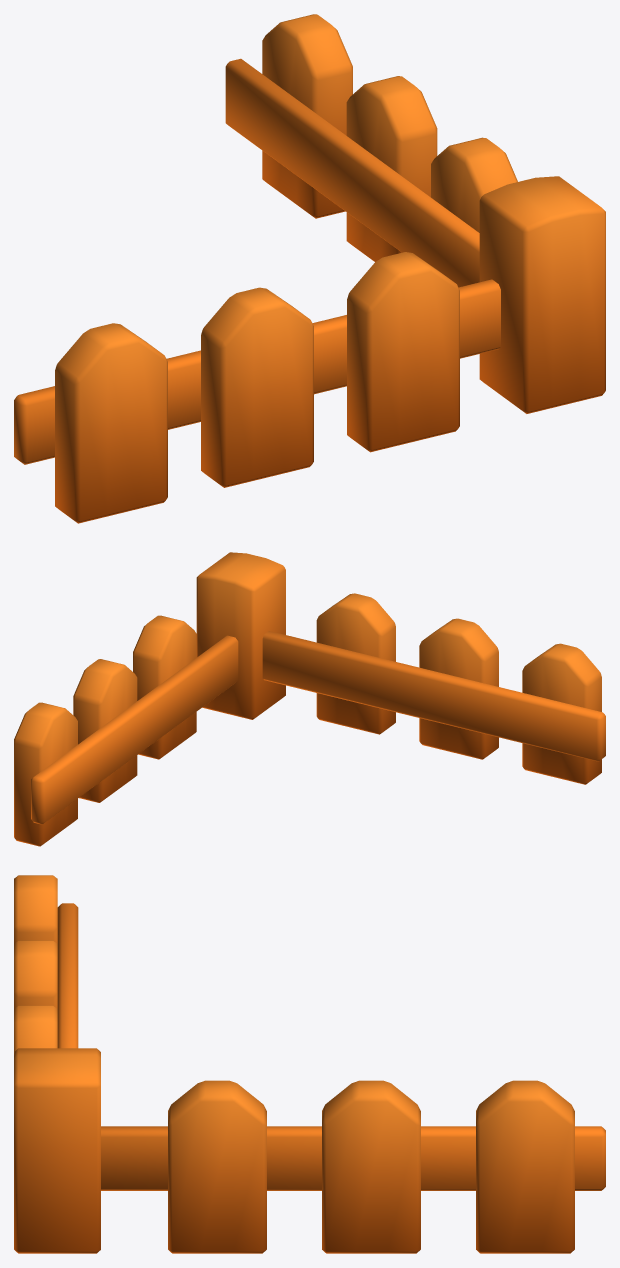
Rendered from Farm_Fence_A_02.fbx.
3 views of the same model, one above another, from view 1: azimuth 30°, elevation 25°; view 2: azimuth 150°, elevation 25°; view 3: azimuth 270°, elevation 25° (orthographic). The views are drawn at different scales.
Visible parts, largest first — view 1: Farm_Fence_A_02; view 2: Farm_Fence_A_02; view 3: Farm_Fence_A_02.
Boxes of the visible parts, box(x1,y1,x2,y2) form: Farm_Fence_A_02: box(14, 14, 605, 523); Farm_Fence_A_02: box(14, 552, 605, 846); Farm_Fence_A_02: box(14, 875, 605, 1253).
Size of the model in its own units: 190 by 62.23 by 190.
